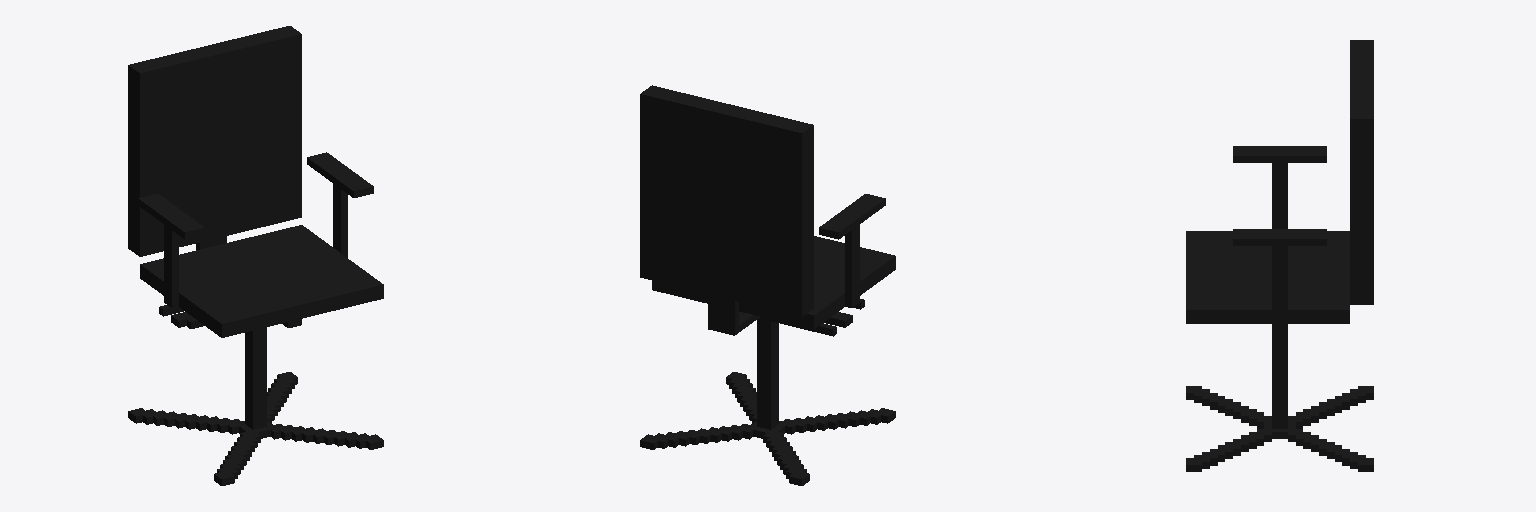
3 views of the same model, side by side, from view 1: azimuth 30°, elevation 25°; view 2: azimuth 150°, elevation 25°; view 3: azimuth 270°, elevation 25° (orthographic).
Visible parts, largest first — view 1: object 1; view 2: object 1; view 3: object 1.
Boxes of the visible parts, box(x1,y1,x2,y2) form: object 1: box(128, 26, 383, 485); object 1: box(640, 85, 895, 485); object 1: box(1186, 40, 1373, 471).
Size of the model in its own units: 2.8 by 5 by 2.4.
1 materials, 1 textured.